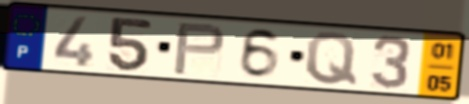3: (369, 34, 415, 92)
4: (51, 14, 97, 68)
5: (107, 14, 155, 74)
6: (237, 27, 282, 81)
P: (170, 21, 228, 77)
Q: (304, 30, 360, 88)
